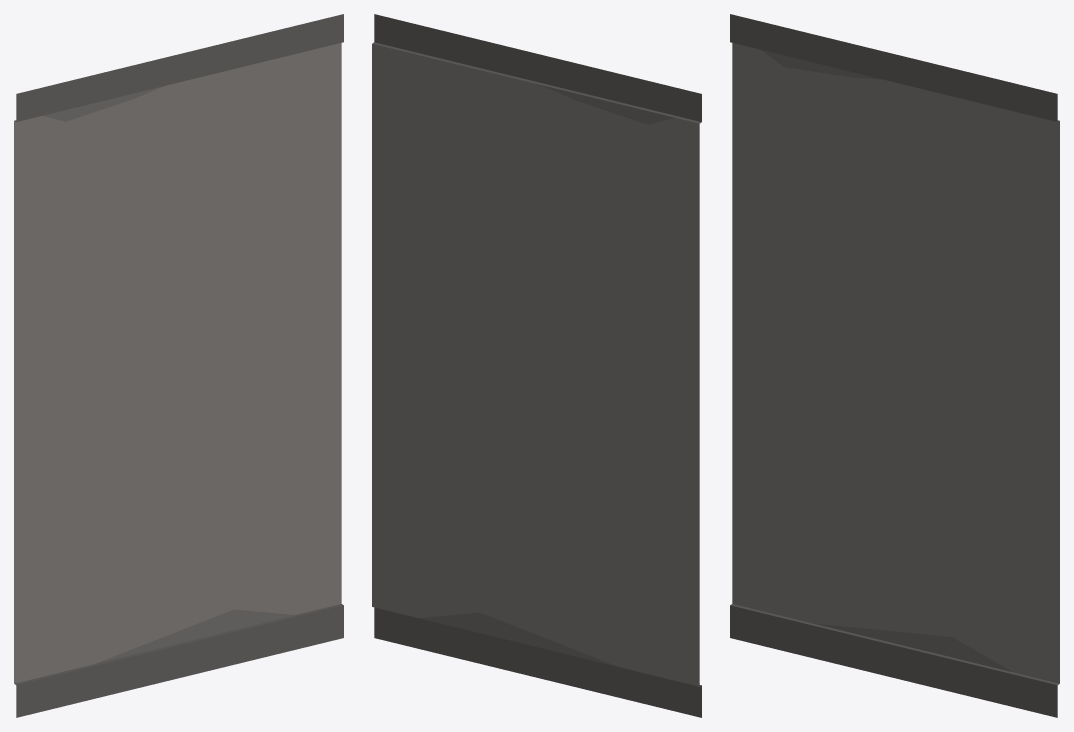
File: AI_Env_Wall_Factory_Blank.fbx
3 views of the same model, side by side, from view 1: azimuth 30°, elevation 25°; view 2: azimuth 150°, elevation 25°; view 3: azimuth 330°, elevation 25° (orthographic).
Parts seen in each view (by area): view 1: AI_Env_Wall_Factory_Blank; view 2: AI_Env_Wall_Factory_Blank; view 3: AI_Env_Wall_Factory_Blank.
Part boxes in pixels (box(x1,y1,x2,y2)): AI_Env_Wall_Factory_Blank: box(14, 14, 343, 717); AI_Env_Wall_Factory_Blank: box(372, 14, 701, 717); AI_Env_Wall_Factory_Blank: box(730, 14, 1059, 717).
Size of the model in its own units: 5 by 9.1 by 0.0549.
